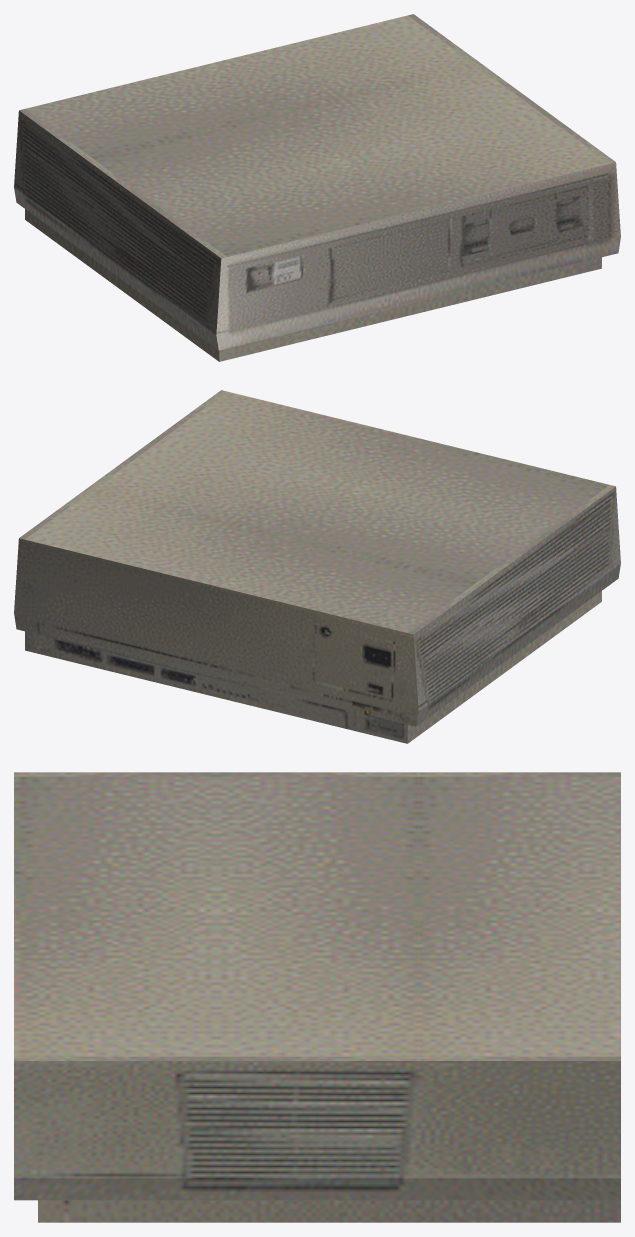
Rendered from vt220-computer.glb.
3 renders of one model, top to bottom at view 1: azimuth 30°, elevation 25°; view 2: azimuth 150°, elevation 25°; view 3: azimuth 270°, elevation 25°, orthographic. The views are drawn at different scales.
Parts seen in each view (by area): view 1: Cube; view 2: Cube; view 3: Cube.
Boxes of the visible parts, x1,y1,x2,y2 form: Cube: (14, 14, 620, 361); Cube: (14, 390, 620, 743); Cube: (14, 772, 620, 1222).
Size of the model in its own units: 10.48 by 2.74 by 9.08.
Materials: 1 (1 with a texture image).
